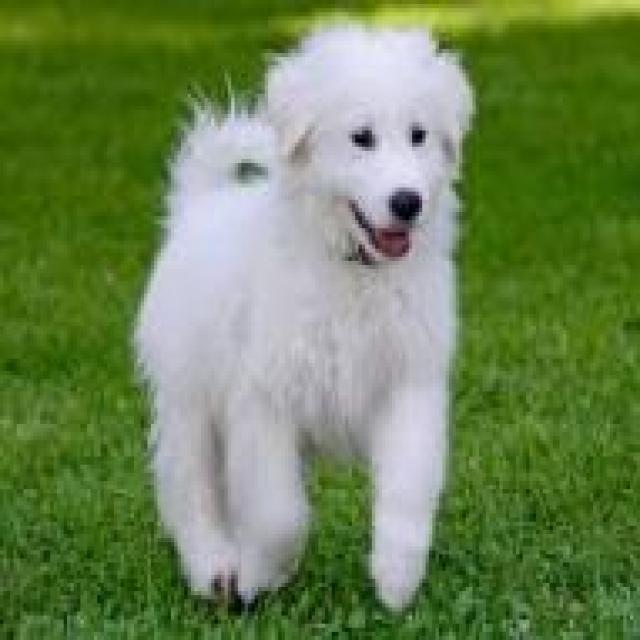Perro: (120, 8, 476, 620)
